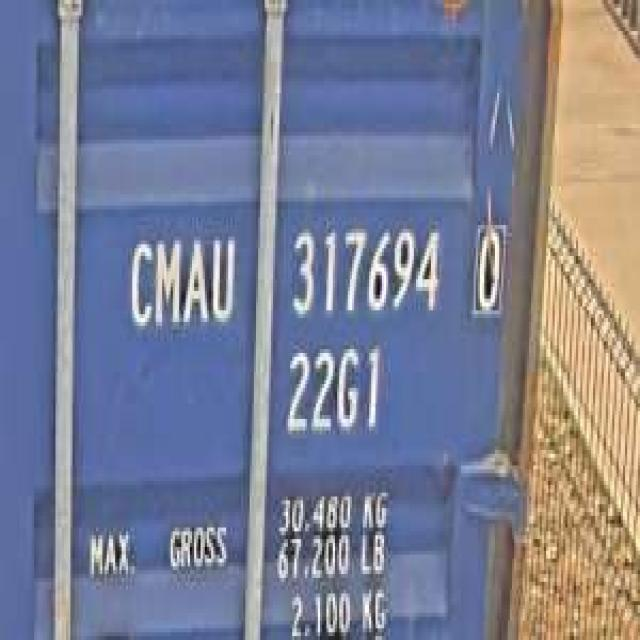dv: (469, 213, 510, 322)
owner: (122, 225, 239, 337)
serial: (284, 213, 444, 326)
size: (279, 338, 384, 442)
